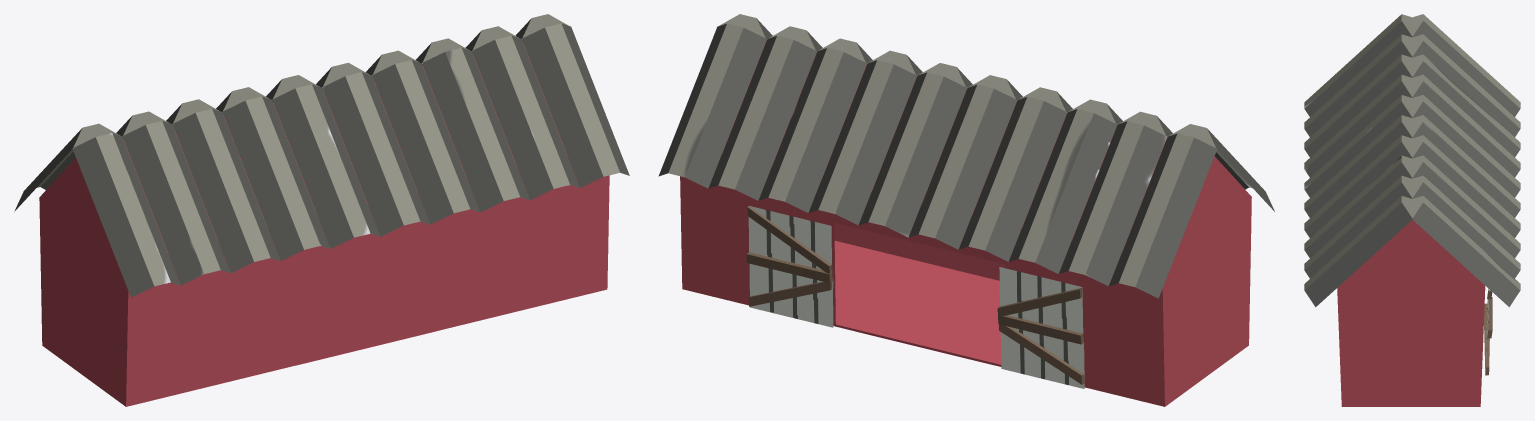
The model's file is lehmätalo.fbx.
3 renders of one model, left to right at view 1: azimuth 30°, elevation 25°; view 2: azimuth 150°, elevation 25°; view 3: azimuth 270°, elevation 25°, orthographic. The views are drawn at different scales.
Visible parts, largest first — view 1: Plane.004; view 2: Plane.004; view 3: Plane.004.
Part boxes in pixels (x1,y1,x2,y2): Plane.004: (14, 14, 629, 406); Plane.004: (658, 14, 1274, 406); Plane.004: (1304, 14, 1520, 406).
Bounding box in the file's own units: 707 × 329 × 320.
